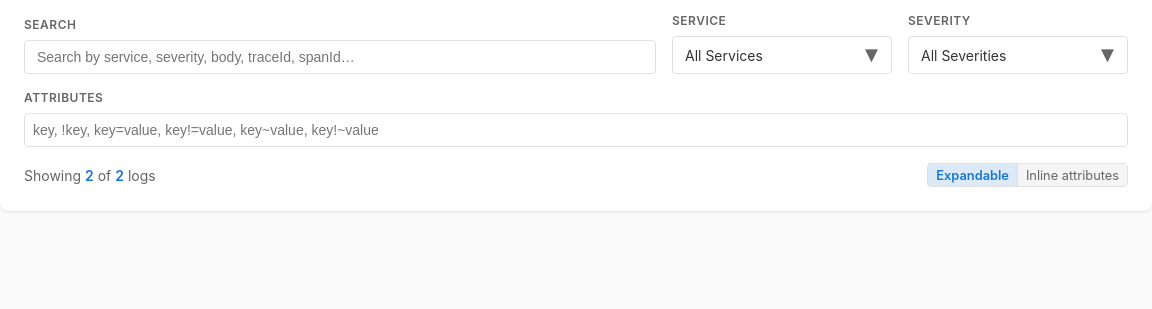
LogFilters › selects a severity from the custom picker
Step 1. Click the button with aria-label "Severity" → [1018, 55], box [908,36,1128,74]
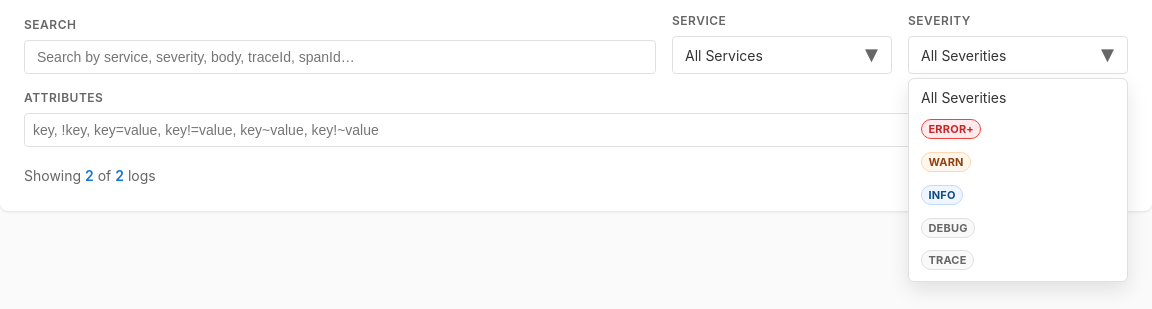
Step 2. Click the button "Warn" → [1018, 162], box [913,146,1123,178]
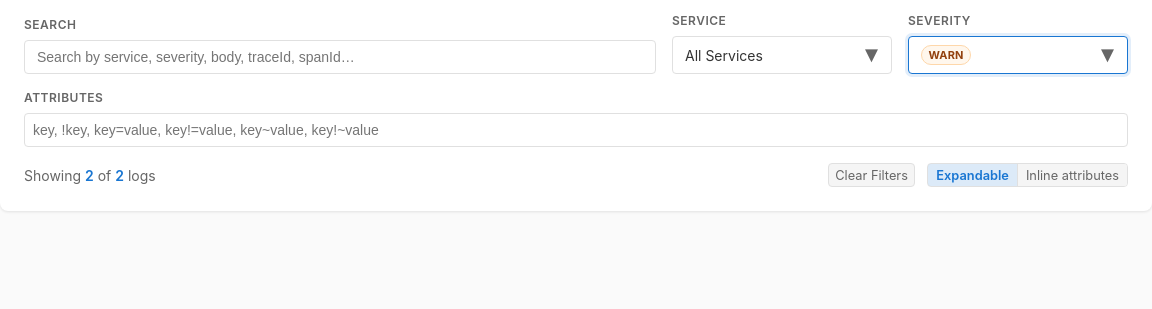
expect the button with aria-label "Severity" shows "Warn": met, box [908,36,1128,74]
